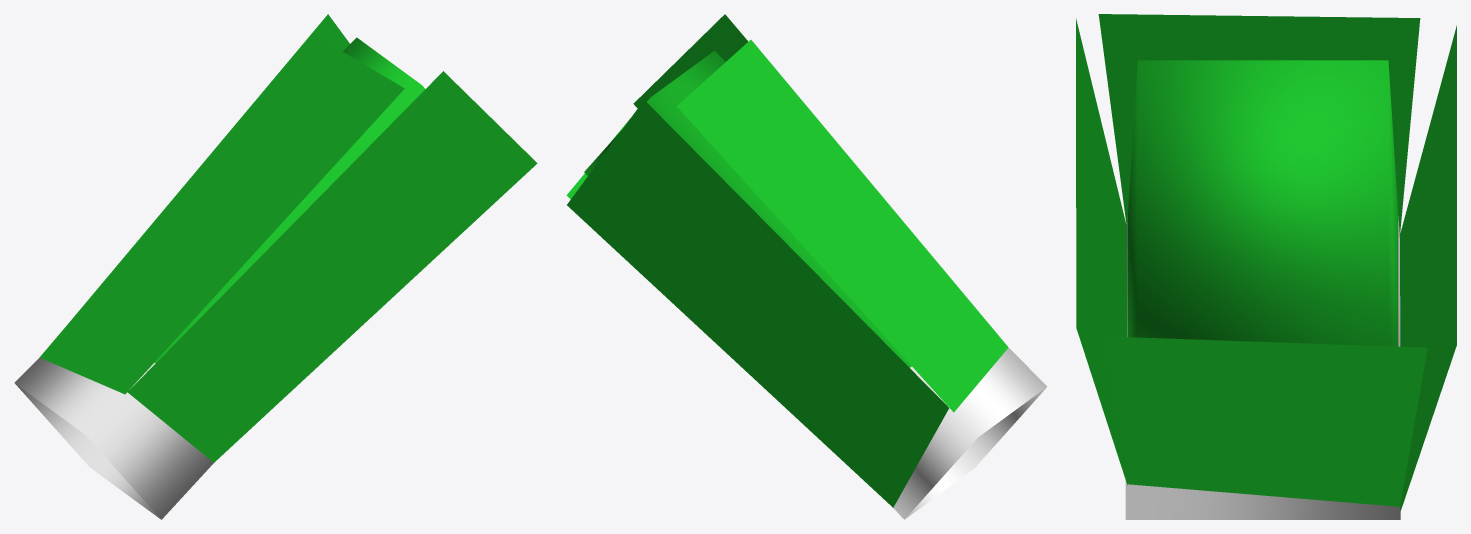
Rendered from leek003.fbx.
The picture shows the model from 3 angles, left to right: view 1: azimuth 30°, elevation 25°; view 2: azimuth 150°, elevation 25°; view 3: azimuth 270°, elevation 25°; orthographic projection. The views are drawn at different scales.
Parts seen in each view (by area): view 1: leek003; view 2: leek003; view 3: leek003.
Boxes of the visible parts, box(x1,y1,x2,y2) form: leek003: box(14, 14, 537, 519); leek003: box(566, 14, 1047, 519); leek003: box(1076, 14, 1456, 519).
Bounding box in the file's own units: 45.01 × 38.51 × 17.63.
